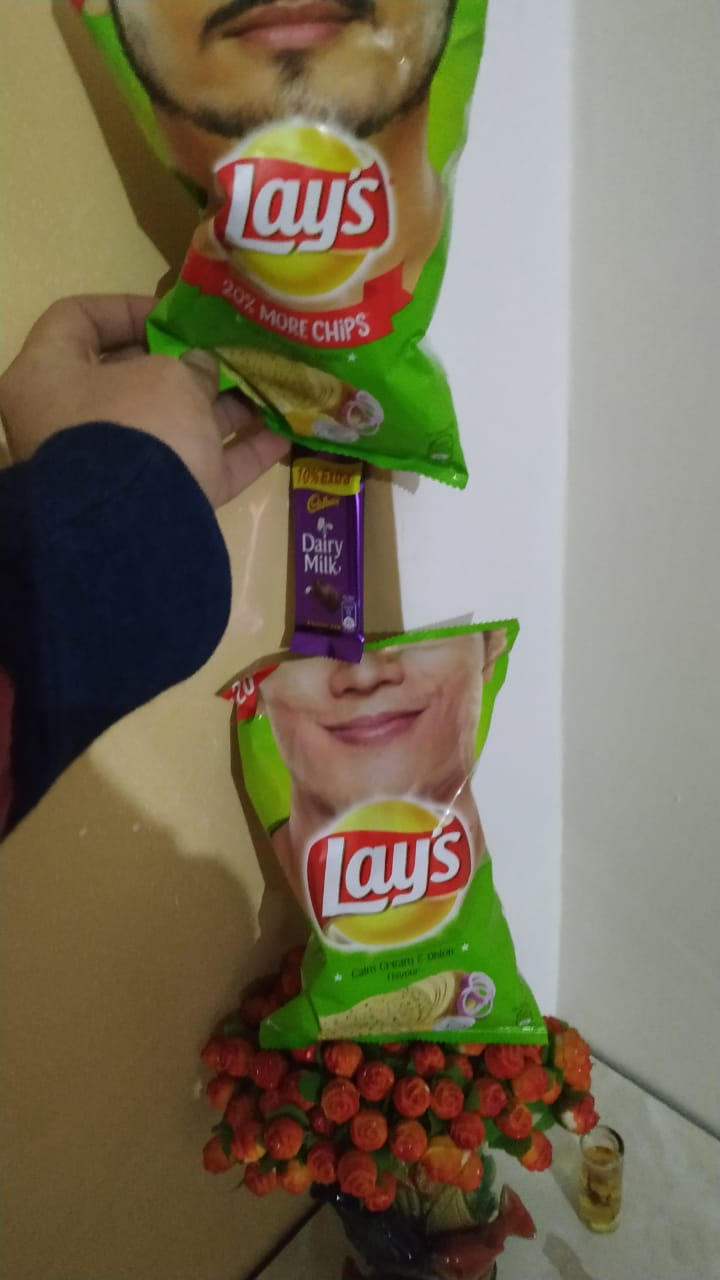dairy milk: (254, 449, 384, 665)
lays chips: (53, 1, 486, 492), (215, 633, 566, 1045)
